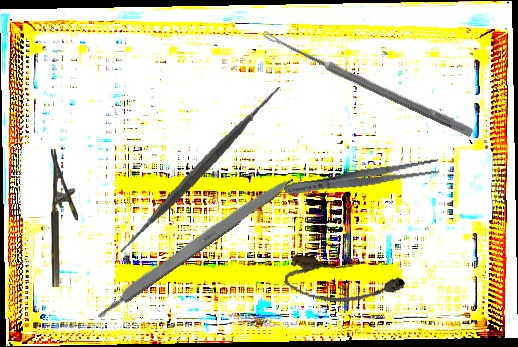Cannula: (282, 252, 407, 314)
Dressing Forceps: (282, 156, 441, 200)
Needle Holder: (51, 149, 78, 287)
Scalpel Handle: (91, 171, 297, 321)
Spatula Surgical: (106, 76, 293, 263)
Surgical Spoon: (260, 29, 475, 138)
